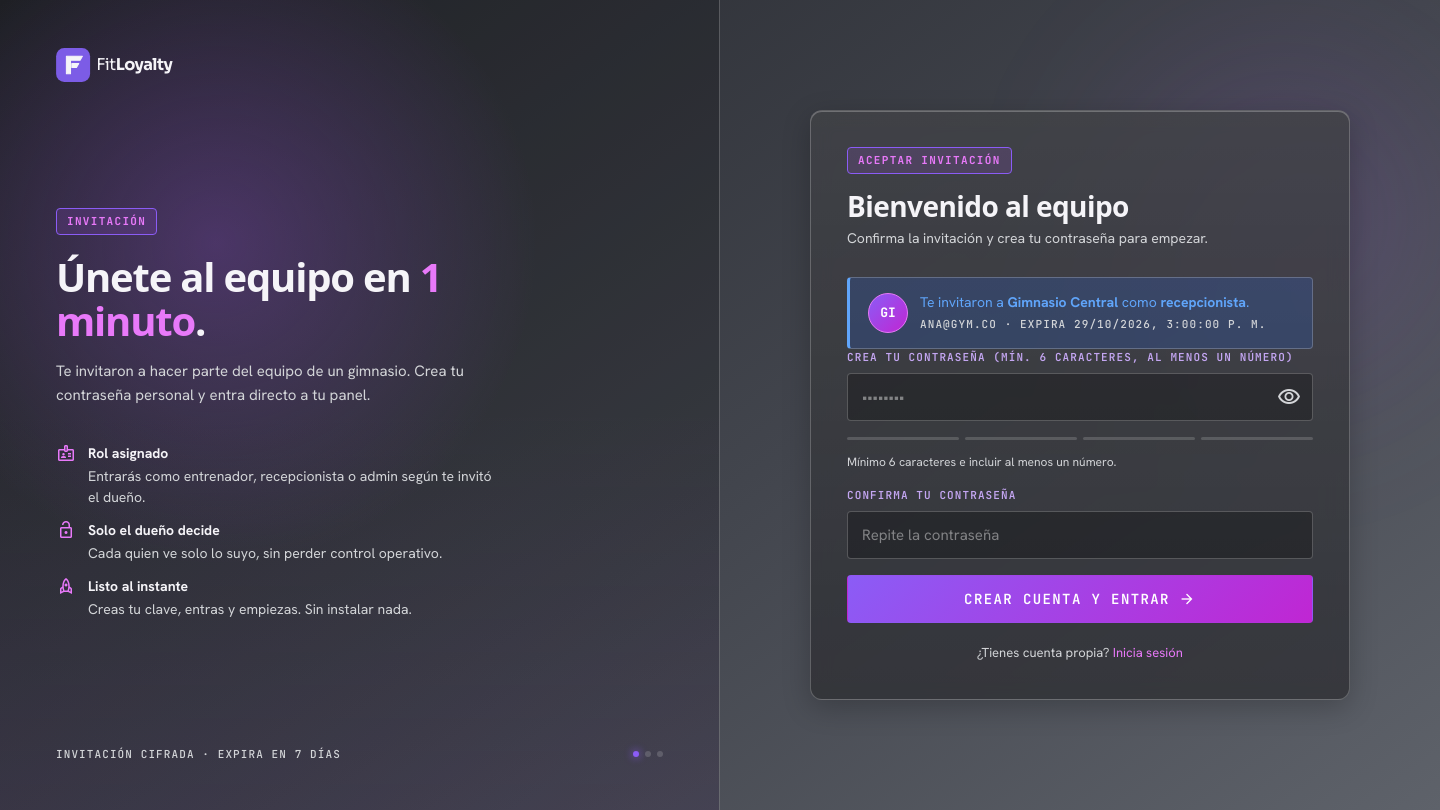
it: AcceptInvitePage: la contrasena › should put the focus on the confirmation when only the confirmation does not match
Step 1. Type "clave123" into the 1st password field → (1080, 397), box left=847, top=373, right=1313, bottom=421
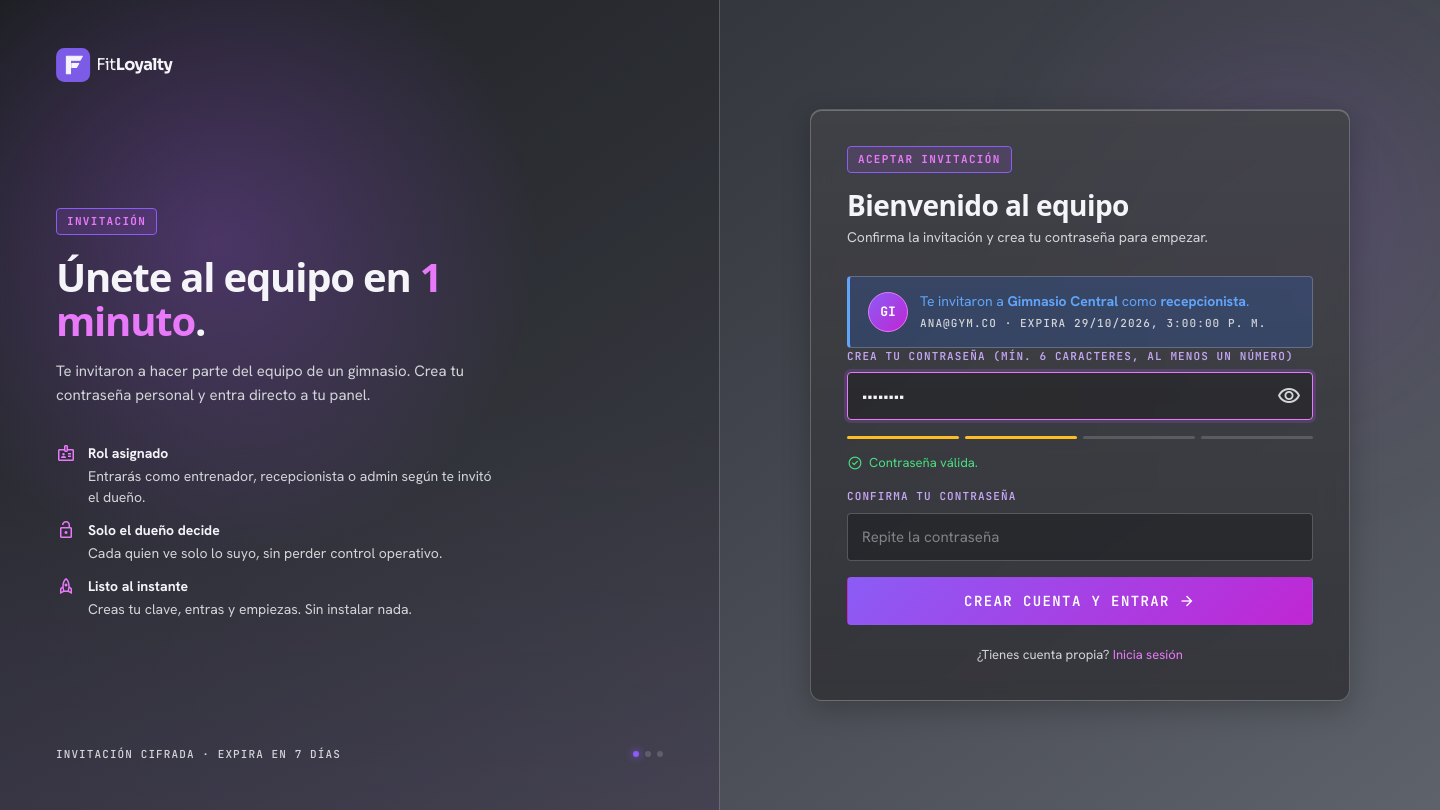
Step 2. Type "clave124" into the password field labelled "Confirma tu contraseña" → (1080, 537), box left=847, top=513, right=1313, bottom=561
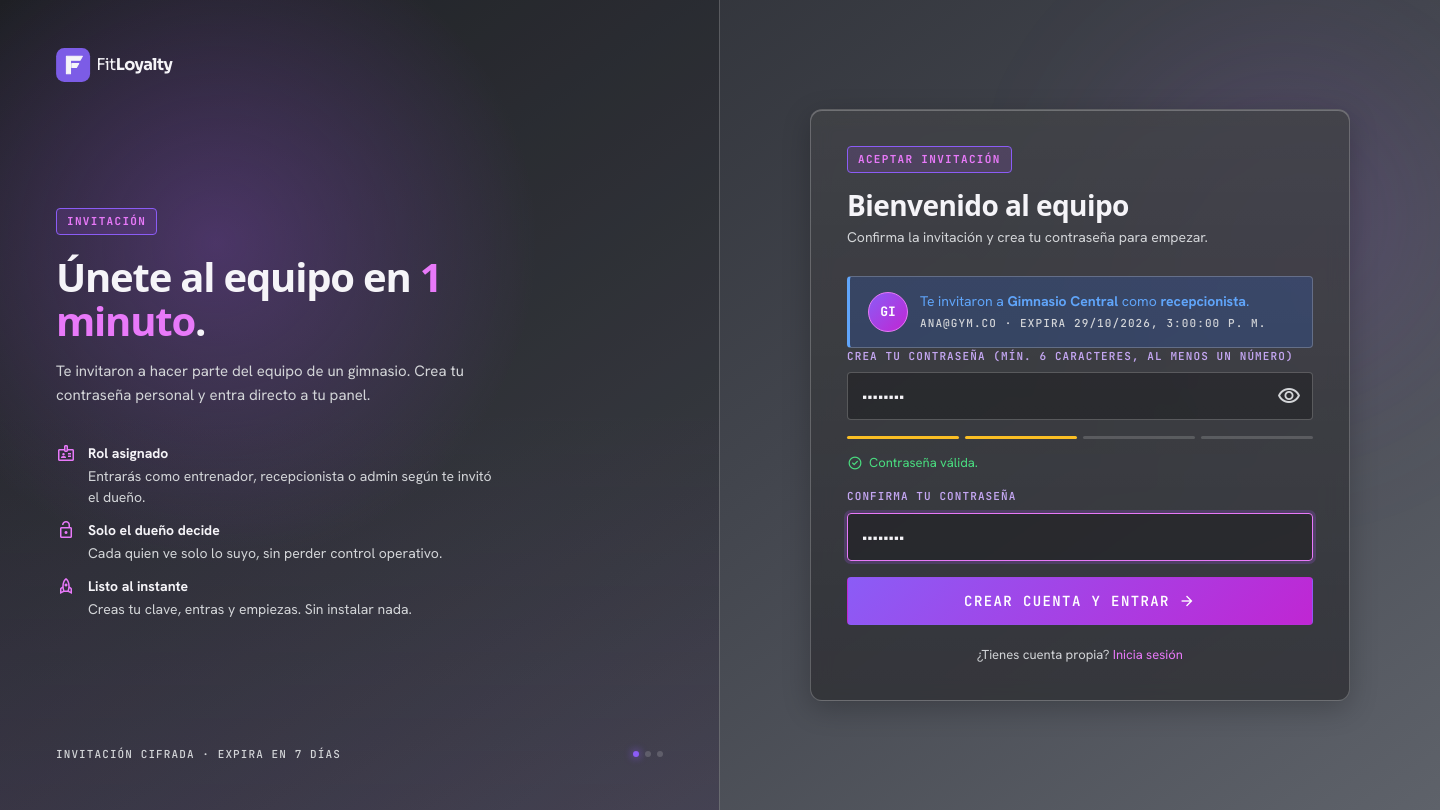
Step 3. Click the button "Crear cuenta y entrar" → (1080, 601), box left=847, top=577, right=1313, bottom=625
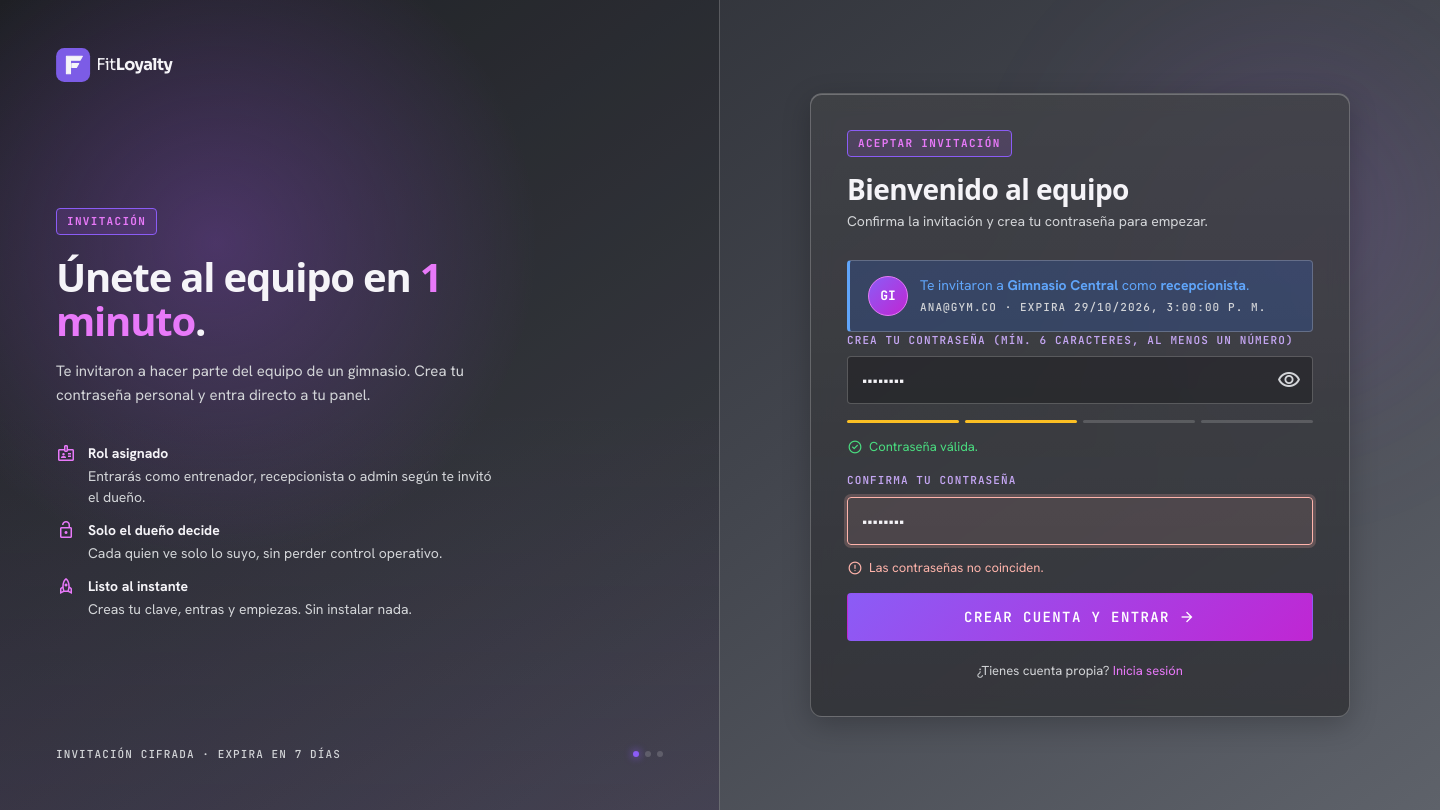
Now the text "Las contraseñas no coinciden." is shown, box left=847, top=558, right=1044, bottom=578
